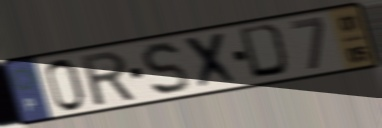0: (43, 57, 88, 113)
7: (288, 14, 329, 74)
D: (237, 22, 294, 81)
R: (77, 49, 139, 109)
S: (139, 40, 192, 98)
X: (182, 29, 243, 92)
